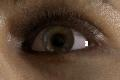eye: (44, 27, 73, 52)
